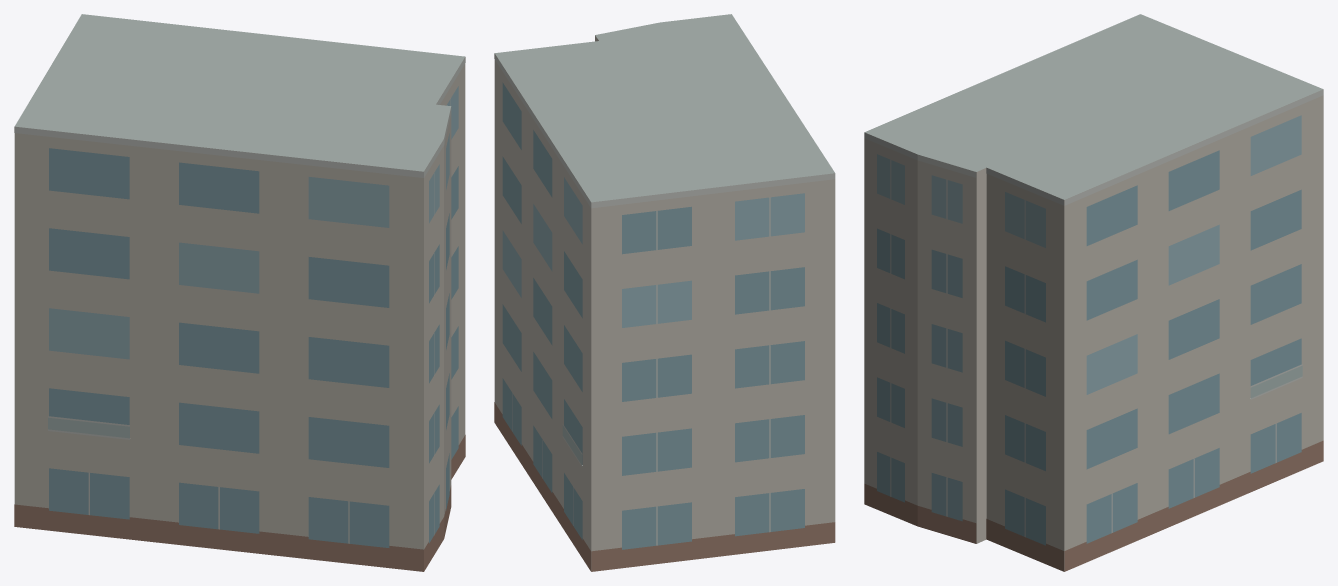
File: survey-upis-32749088.glb
3 renders of one model, left to right at view 1: azimuth 30°, elevation 25°; view 2: azimuth 150°, elevation 25°; view 3: azimuth 270°, elevation 25°, orthographic. The views are drawn at different scales.
Parts seen in each view (by area): view 1: survey-upis-32749088.tmp; view 2: survey-upis-32749088.tmp; view 3: survey-upis-32749088.tmp.
Boxes of the visible parts, x1,y1,x2,y2 form: survey-upis-32749088.tmp: (14, 14, 465, 571); survey-upis-32749088.tmp: (494, 14, 835, 571); survey-upis-32749088.tmp: (864, 14, 1323, 571).
Size of the model in its own units: 16.36 by 15.25 by 17.07.
